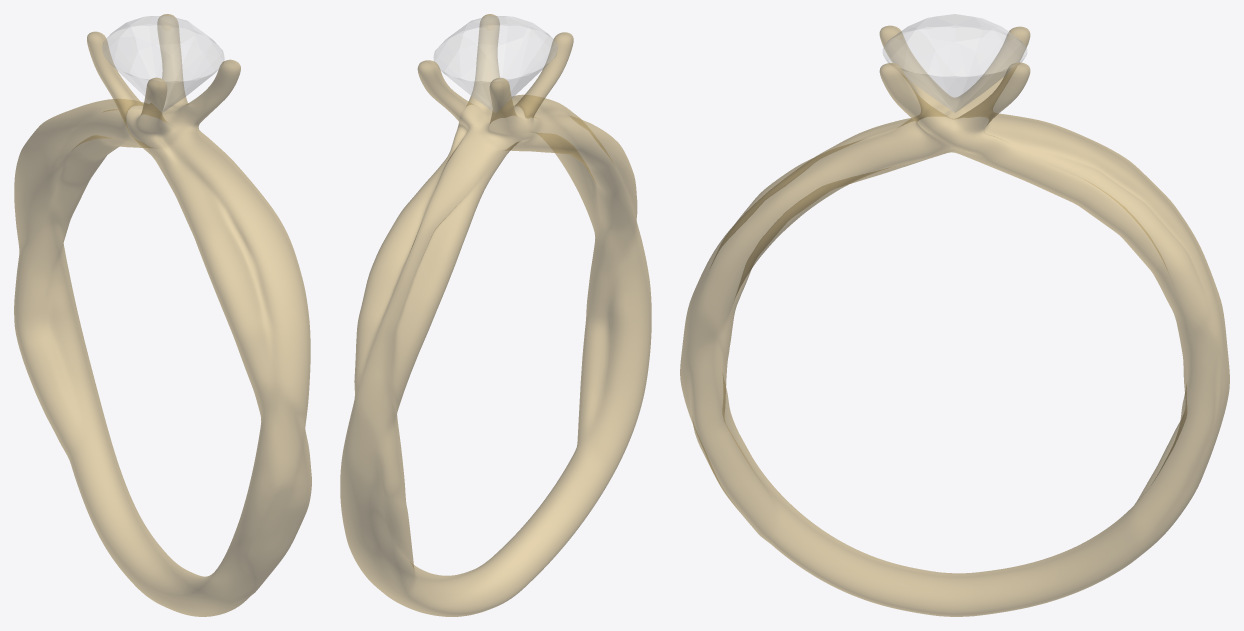
3 renders of one model, left to right at view 1: azimuth 30°, elevation 25°; view 2: azimuth 150°, elevation 25°; view 3: azimuth 270°, elevation 25°, orthographic. The views are drawn at different scales.
Parts seen in each view (by area): view 1: Ring, Diamond; view 2: Ring, Diamond; view 3: Ring, Diamond.
Part boxes in pixels (box(x1,y1,x2,y2)): Ring: box(14, 14, 311, 616); Diamond: box(102, 16, 224, 112); Ring: box(340, 14, 651, 616); Diamond: box(433, 16, 557, 112); Ring: box(680, 25, 1229, 616); Diamond: box(883, 14, 1026, 112).
Size of the model in its own units: 0.506 by 2.73 by 2.32.
